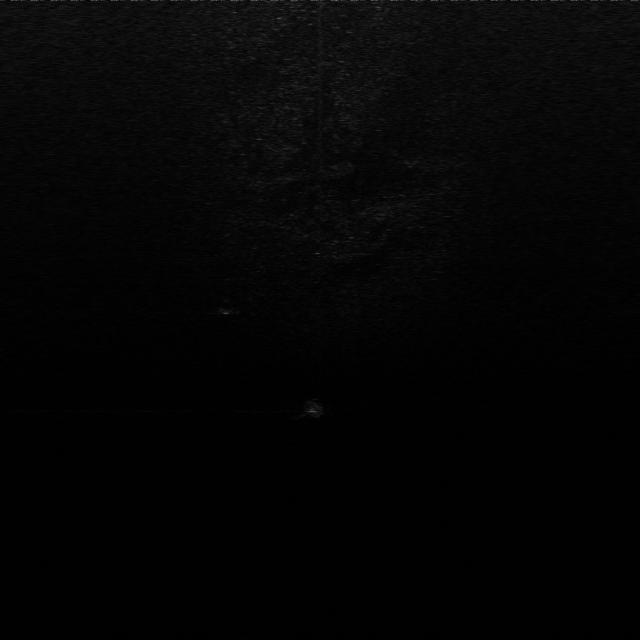ball: (214, 298, 242, 318)
circle cage: (288, 395, 332, 423)
